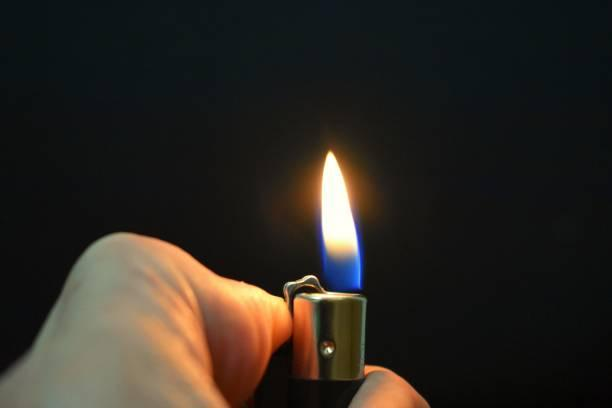Fire: (314, 149, 362, 290)
